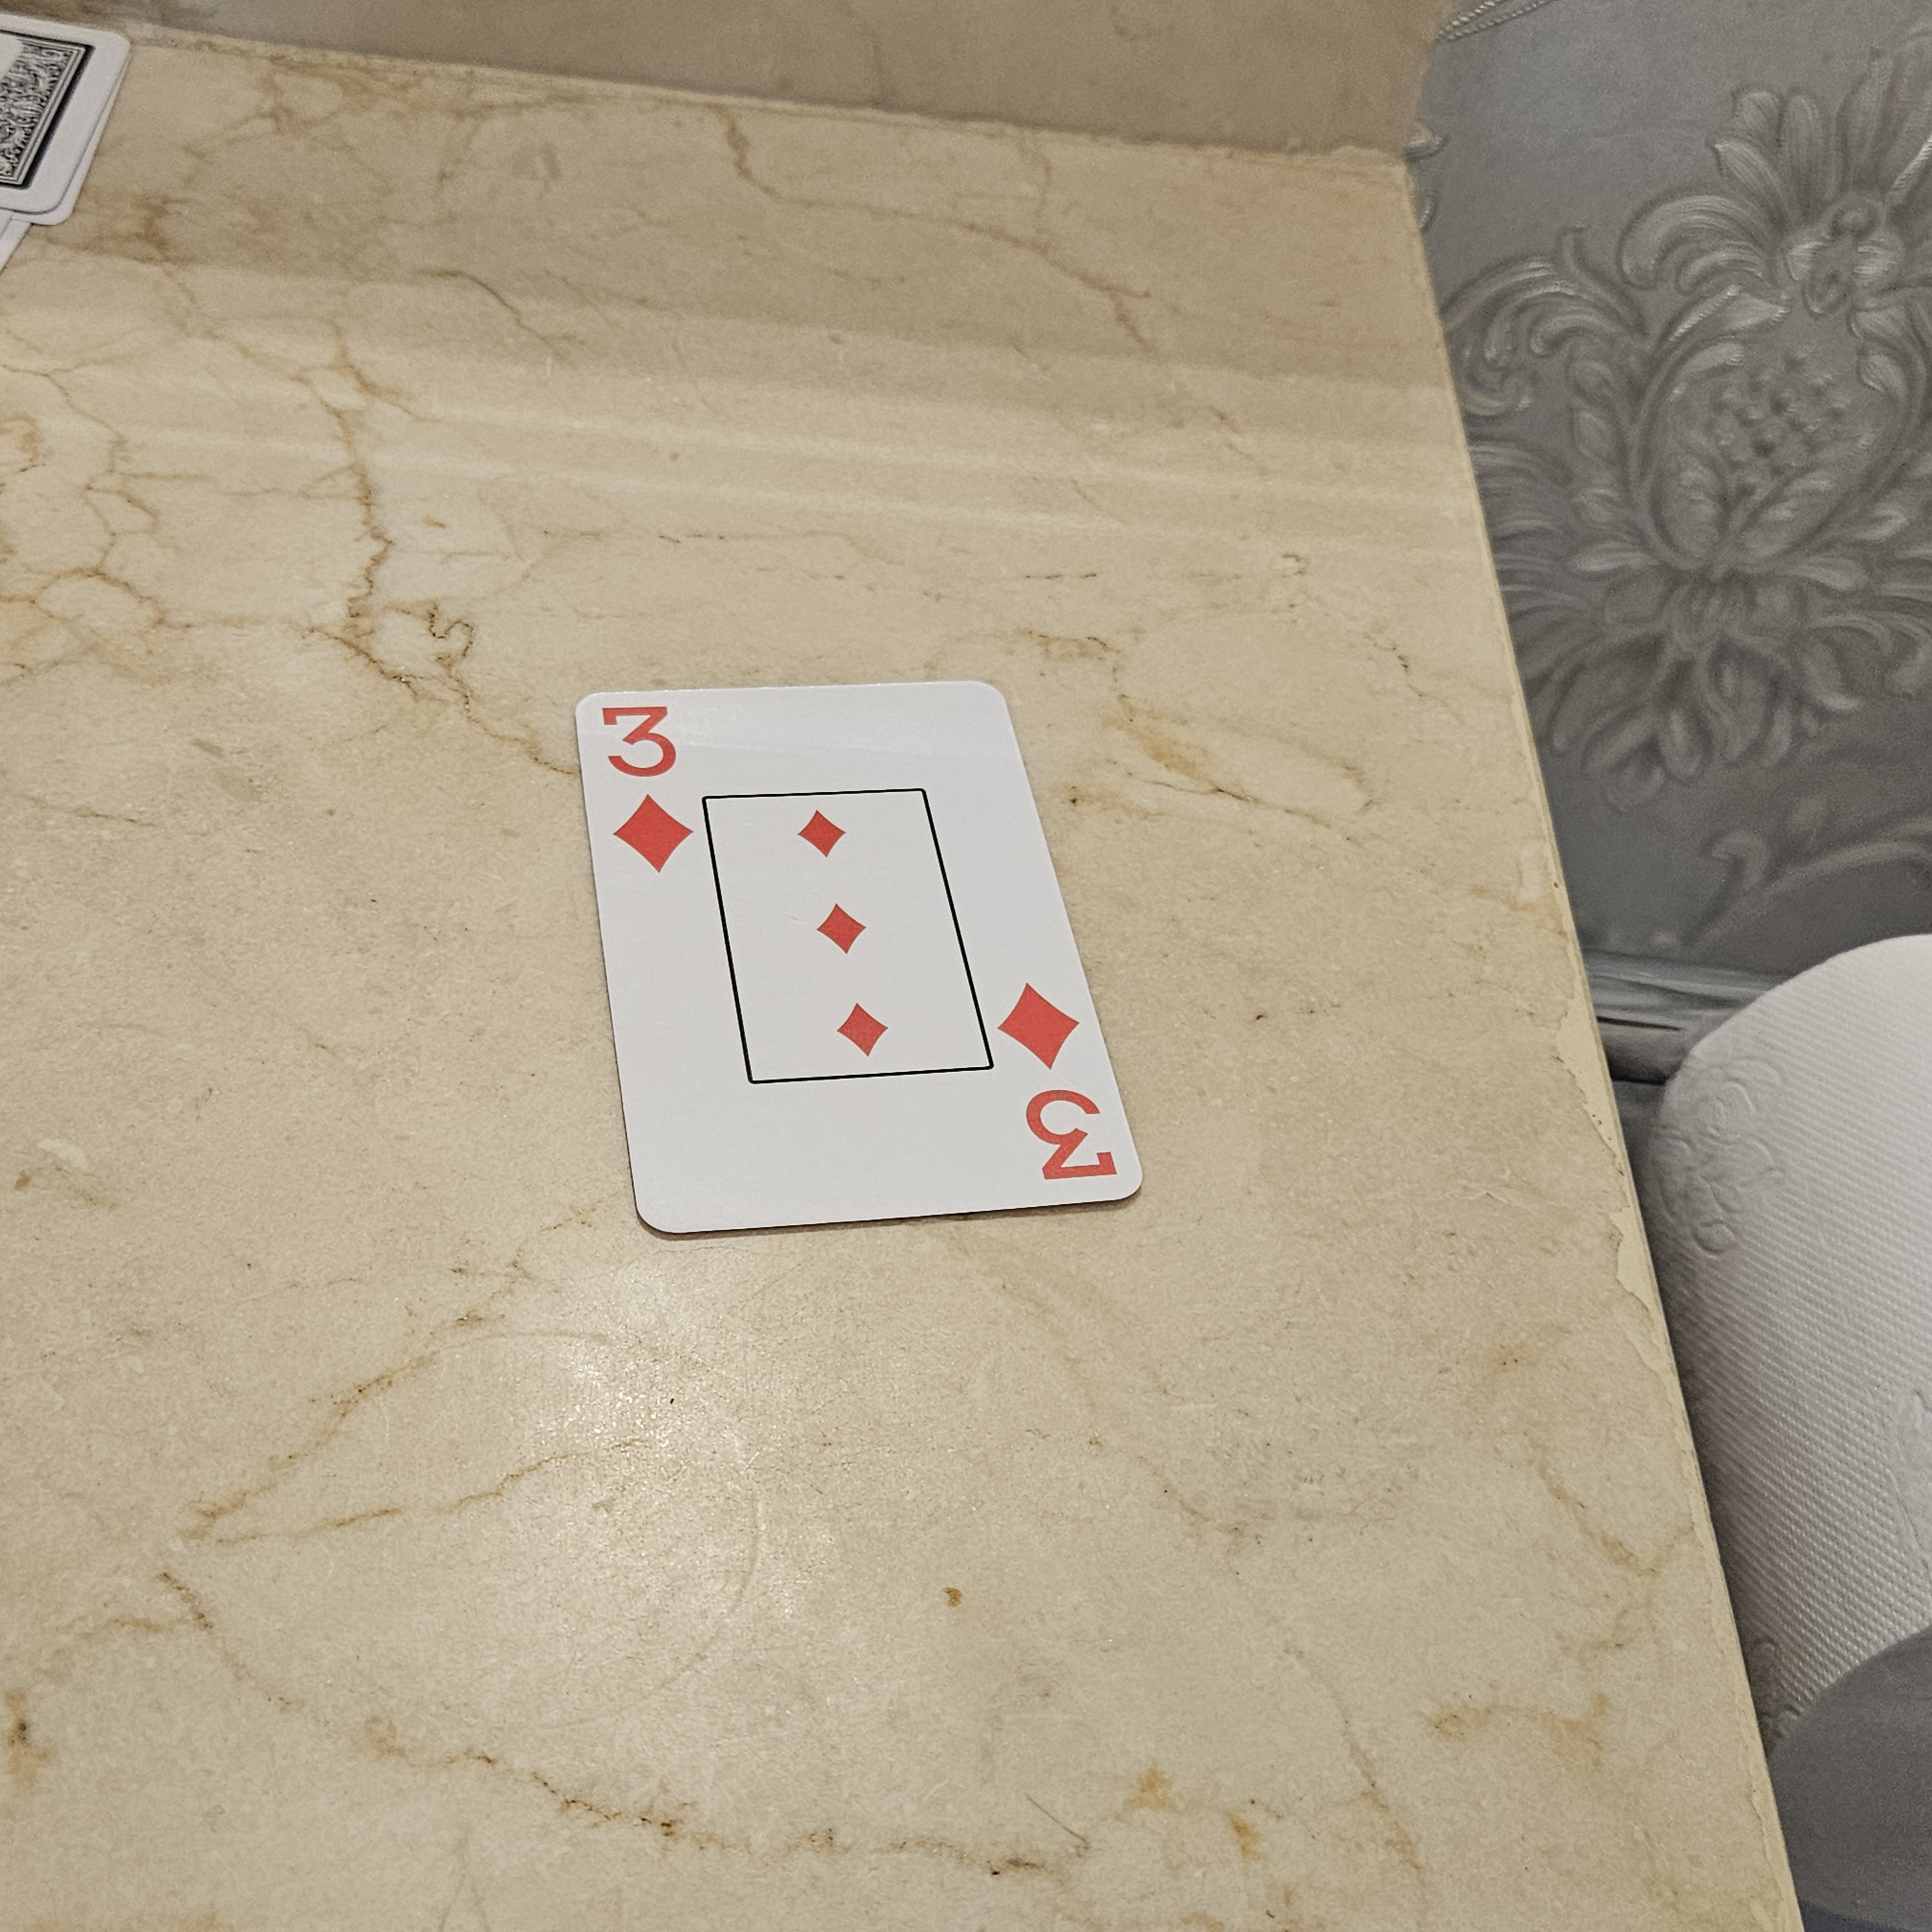3O: (975, 971, 1136, 1212), (579, 683, 718, 883)
